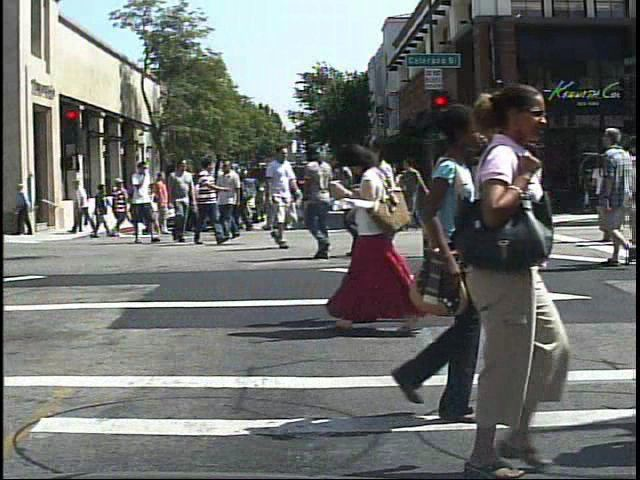person: (430, 80, 580, 480), (326, 138, 434, 342), (366, 128, 414, 333), (461, 134, 510, 262), (295, 133, 342, 262), (597, 118, 637, 269), (339, 147, 385, 262), (259, 142, 301, 252), (187, 153, 226, 247), (591, 145, 624, 248), (126, 157, 162, 246), (165, 157, 200, 248), (107, 176, 131, 241), (76, 182, 96, 230), (533, 139, 534, 253)
